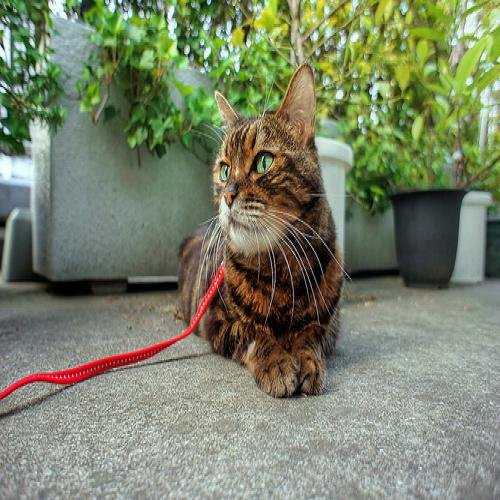cat-face: (208, 62, 322, 257)
